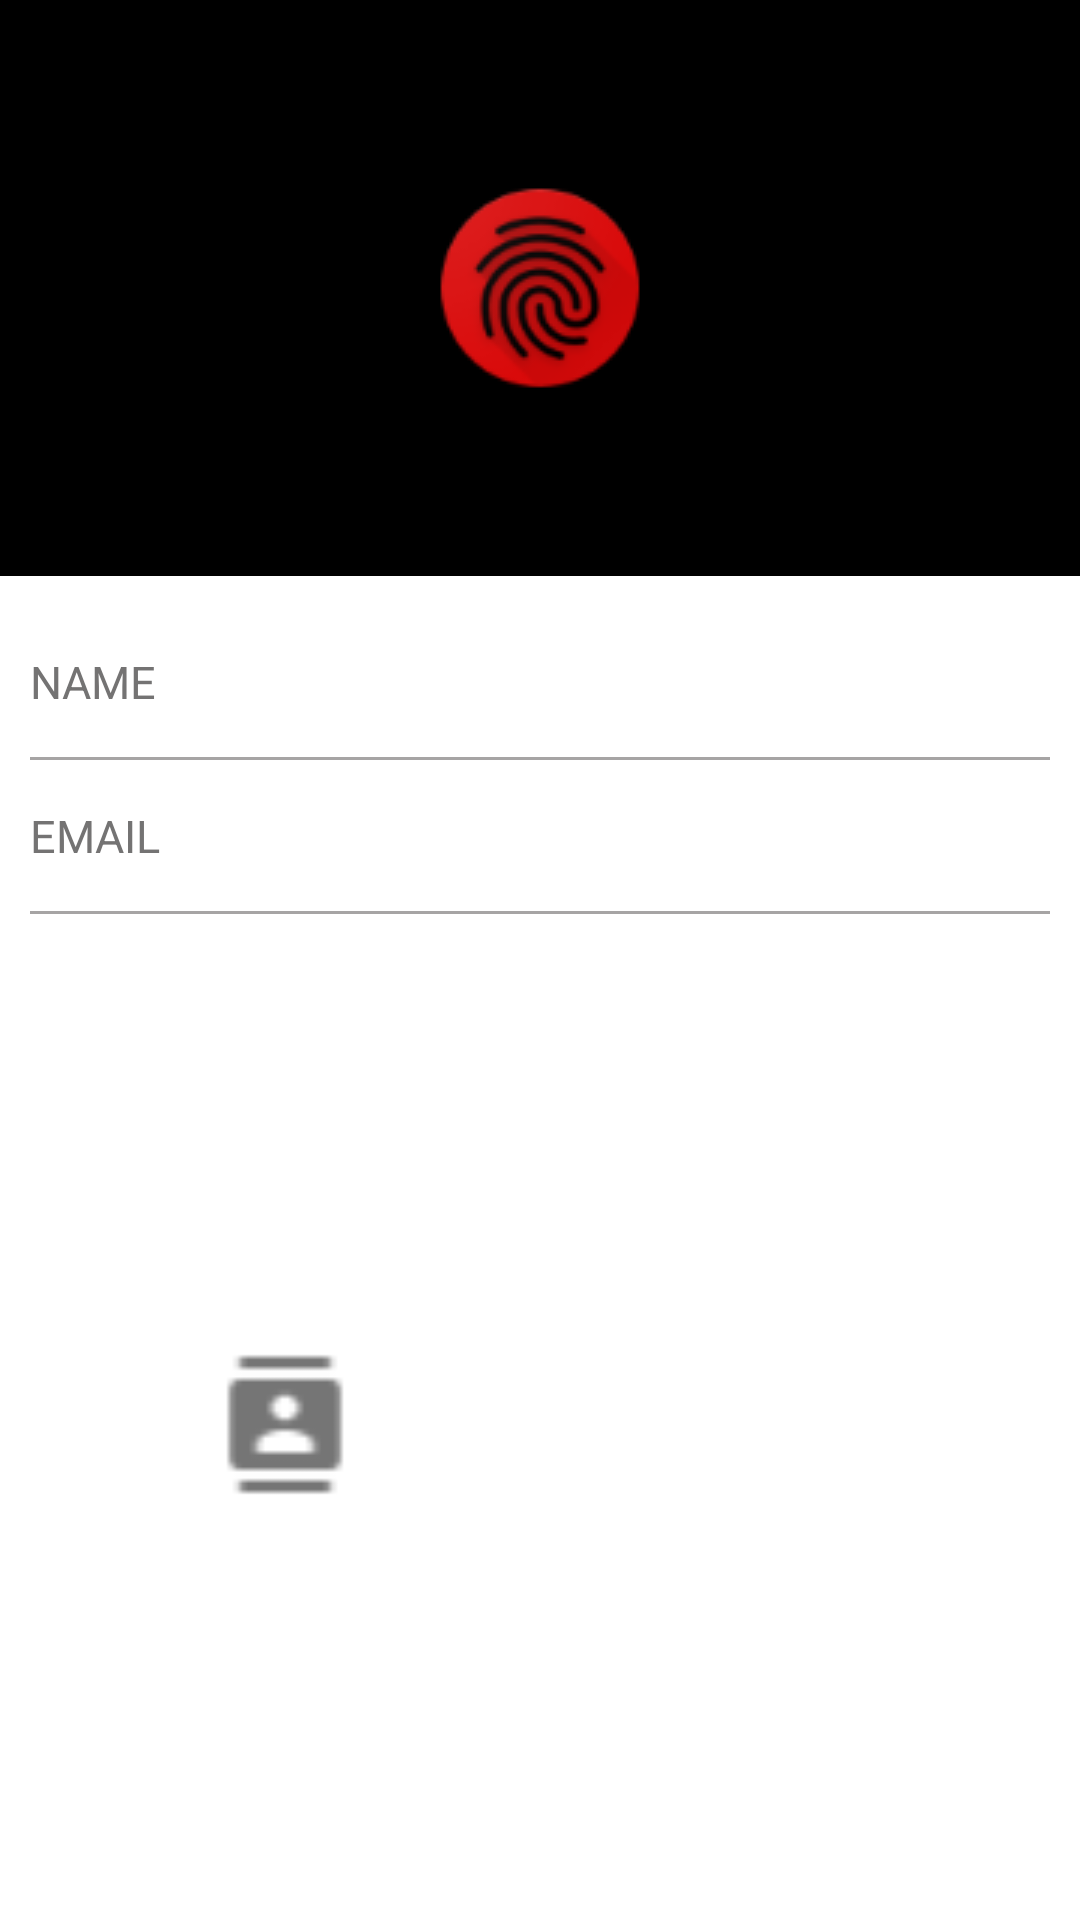

Named icons in this screenshot (1080 × 1920) and their bounding boxes, (x1, y1, x2, y2):
contacts: (227, 1355, 343, 1494)
